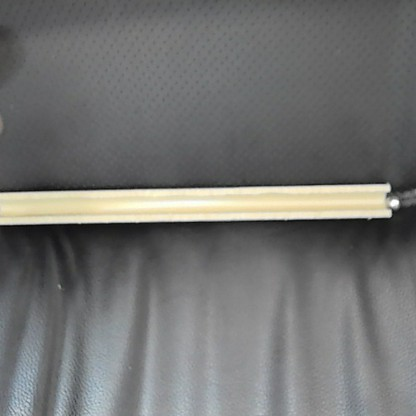ironball: (383, 192, 401, 210)
